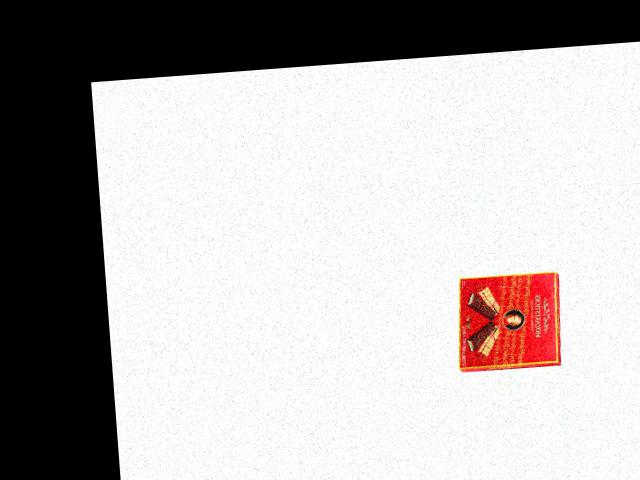chocolate: (449, 268, 563, 373)
